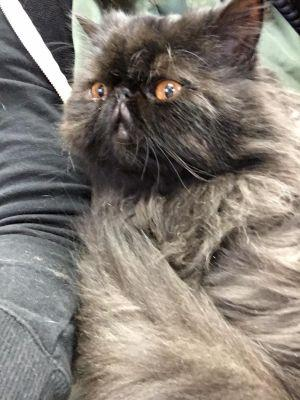persian: (51, 1, 277, 187)
